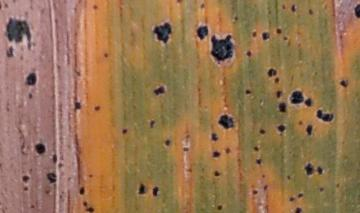tarspot: (4, 15, 32, 53), (208, 33, 236, 64), (151, 19, 174, 45), (216, 112, 237, 131), (288, 88, 305, 105), (194, 24, 209, 40), (24, 71, 38, 87), (302, 161, 315, 177), (44, 171, 59, 184), (33, 142, 46, 156), (153, 83, 166, 97), (274, 122, 287, 136), (15, 126, 27, 141), (4, 43, 15, 59), (19, 140, 30, 156), (276, 101, 288, 114), (136, 181, 147, 195), (266, 66, 278, 78), (321, 111, 334, 122), (352, 2, 360, 19), (260, 30, 271, 41), (209, 131, 219, 143), (305, 123, 313, 138), (314, 108, 324, 120), (151, 185, 160, 198), (338, 78, 349, 88), (20, 174, 30, 184), (243, 48, 253, 58), (73, 100, 82, 111), (77, 185, 86, 196), (49, 152, 57, 164), (148, 118, 156, 130), (292, 205, 304, 213), (72, 68, 82, 77), (162, 138, 172, 147), (254, 156, 263, 166), (275, 88, 284, 98), (84, 205, 95, 213), (210, 151, 221, 159), (315, 165, 323, 176), (303, 97, 312, 106), (212, 169, 222, 177), (56, 161, 65, 169), (92, 104, 101, 112), (120, 127, 129, 135), (181, 145, 190, 153), (184, 164, 192, 173), (223, 146, 231, 155), (249, 29, 257, 38), (251, 144, 260, 152), (274, 26, 282, 35), (289, 3, 296, 13), (16, 118, 24, 126), (65, 174, 73, 182), (43, 188, 52, 195), (266, 19, 272, 29), (17, 53, 24, 61), (27, 91, 34, 99), (54, 62, 61, 70), (102, 52, 110, 59), (199, 2, 206, 10), (232, 14, 239, 22), (215, 203, 223, 210), (244, 88, 252, 95), (258, 128, 266, 135), (296, 192, 304, 199), (317, 186, 325, 193), (4, 105, 11, 112), (21, 185, 28, 192), (72, 29, 79, 36), (81, 199, 88, 206), (273, 77, 280, 84), (251, 188, 258, 195), (288, 195, 295, 202), (306, 8, 313, 15), (90, 4, 98, 10), (258, 97, 264, 105), (285, 173, 291, 181), (296, 120, 304, 126), (30, 41, 37, 47), (52, 18, 58, 25), (71, 6, 78, 12), (28, 167, 34, 174), (183, 133, 190, 139), (262, 184, 268, 191), (282, 35, 289, 41), (337, 33, 344, 39), (235, 157, 242, 163), (24, 10, 29, 18), (75, 1, 84, 5), (25, 144, 31, 150), (29, 203, 35, 209), (87, 173, 93, 179), (174, 1, 183, 5), (260, 173, 266, 179), (280, 4, 286, 10), (4, 100, 11, 105), (3, 2, 8, 8), (28, 5, 34, 10), (57, 194, 62, 199), (60, 190, 65, 195), (287, 41, 292, 46), (10, 1, 18, 4), (335, 182, 339, 188), (1, 1, 3, 11), (266, 9, 270, 14), (1, 161, 3, 170)
